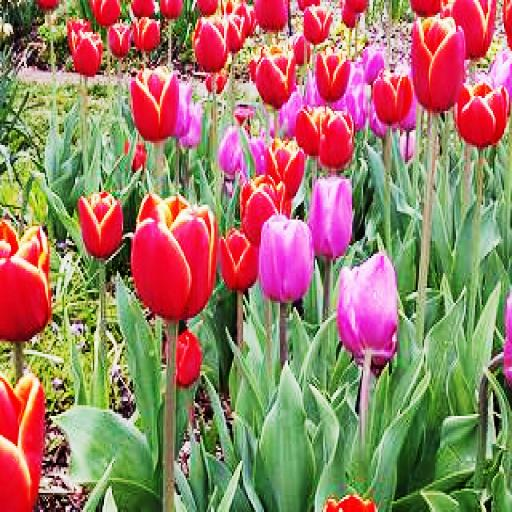tulip: (133, 194, 219, 320), (338, 254, 402, 365), (412, 17, 466, 111), (261, 213, 312, 301), (130, 66, 179, 143), (310, 177, 356, 254), (240, 175, 288, 247), (78, 190, 124, 260), (250, 44, 294, 106), (219, 228, 258, 294), (315, 111, 357, 168), (371, 73, 413, 128), (189, 15, 230, 68), (264, 139, 302, 196), (314, 45, 348, 100)
